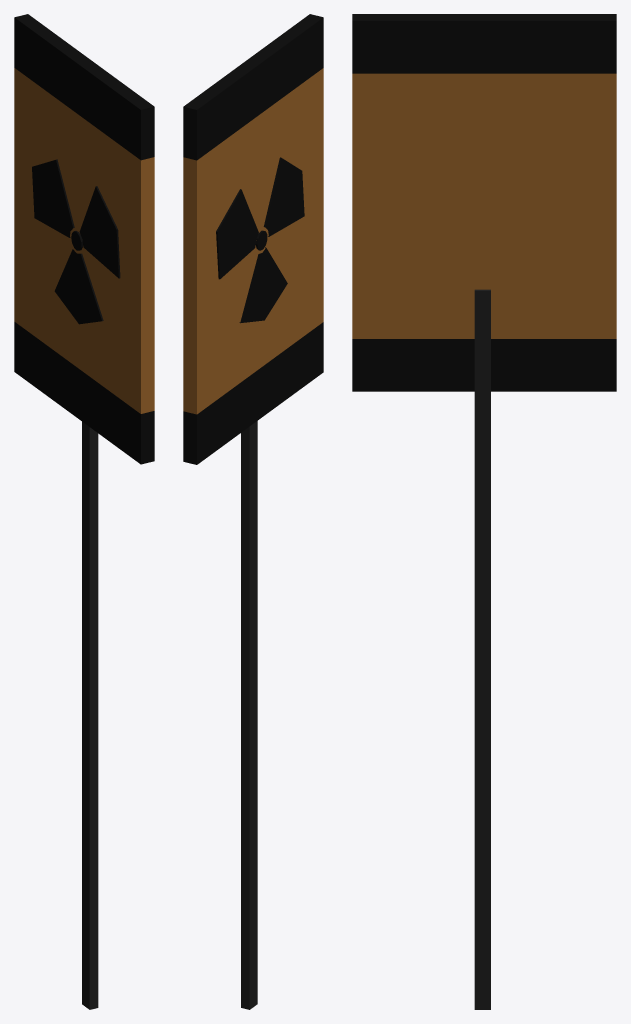
File: nuclear_sign.FBX
3 renders of one model, left to right at view 1: azimuth 30°, elevation 25°; view 2: azimuth 150°, elevation 25°; view 3: azimuth 270°, elevation 25°, orthographic. The views are drawn at different scales.
Visible parts, largest first — view 1: Box001; view 2: Box001; view 3: Box001.
Boxes of the visible parts, x1=… form: Box001: x1=14, y1=14, x2=154, y2=1009; Box001: x1=183, y1=14, x2=323, y2=1009; Box001: x1=352, y1=14, x2=616, y2=1009.
Size of the model in its own units: 1.78 by 89.9 by 21.82.
